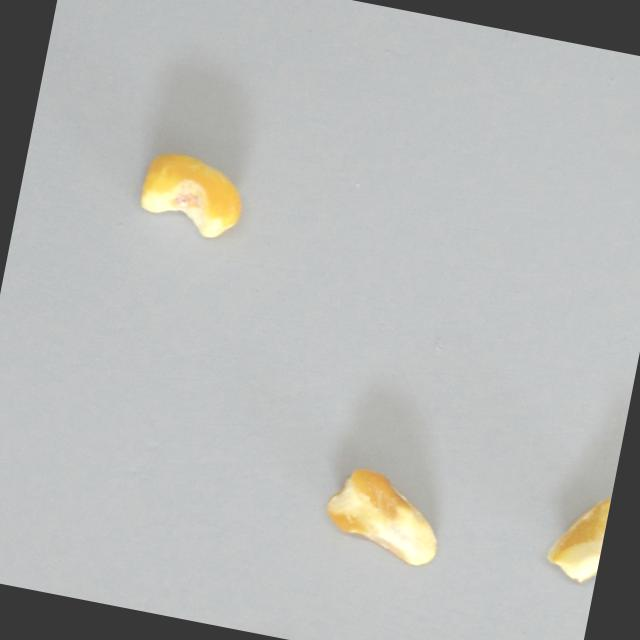dañado: (131, 143, 254, 242)
pelicula: (317, 464, 450, 570), (542, 485, 612, 586)
